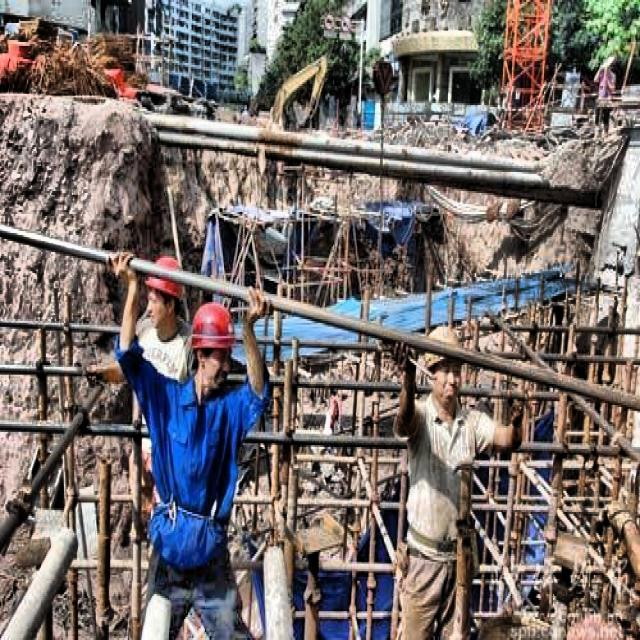helmet: (187, 302, 234, 390), (422, 317, 466, 409), (142, 252, 186, 331)
